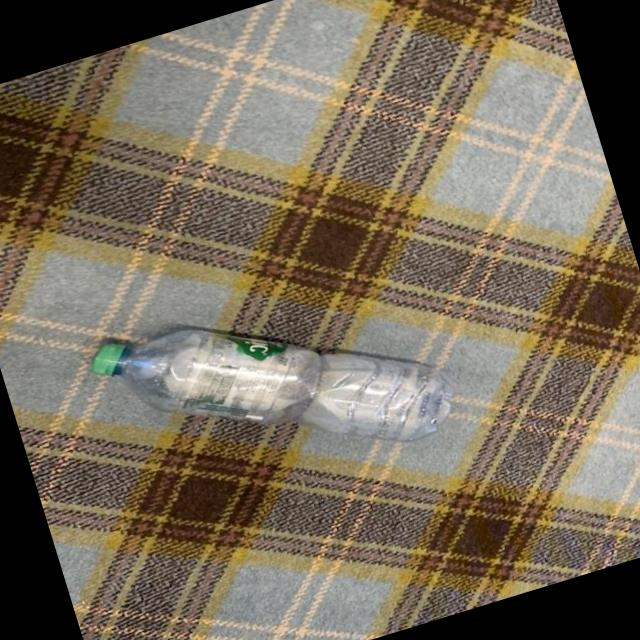BotolPlastik: (82, 248, 466, 526)
